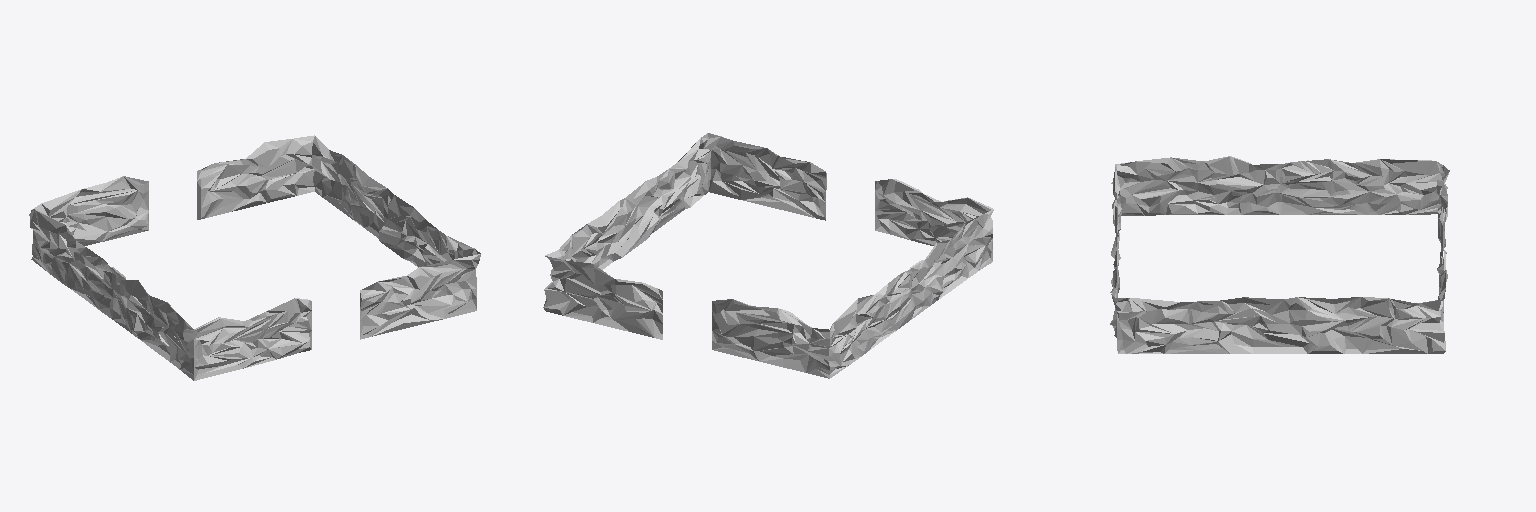
Rendered from FieldWallFirstStageA.mtl.obj.
The picture shows the model from 3 angles: view 1: azimuth 30°, elevation 25°; view 2: azimuth 150°, elevation 25°; view 3: azimuth 270°, elevation 25°; orthographic projection.
Parts seen in each view (by area): view 1: Stage1_Wall; view 2: Stage1_Wall; view 3: Stage1_Wall.
Boxes of the visible parts, x1=… form: Stage1_Wall: x1=29, y1=135, x2=480, y2=380; Stage1_Wall: x1=543, y1=133, x2=993, y2=378; Stage1_Wall: x1=1110, y1=156, x2=1449, y2=353.
Size of the model in its own units: 633 by 124 by 626.